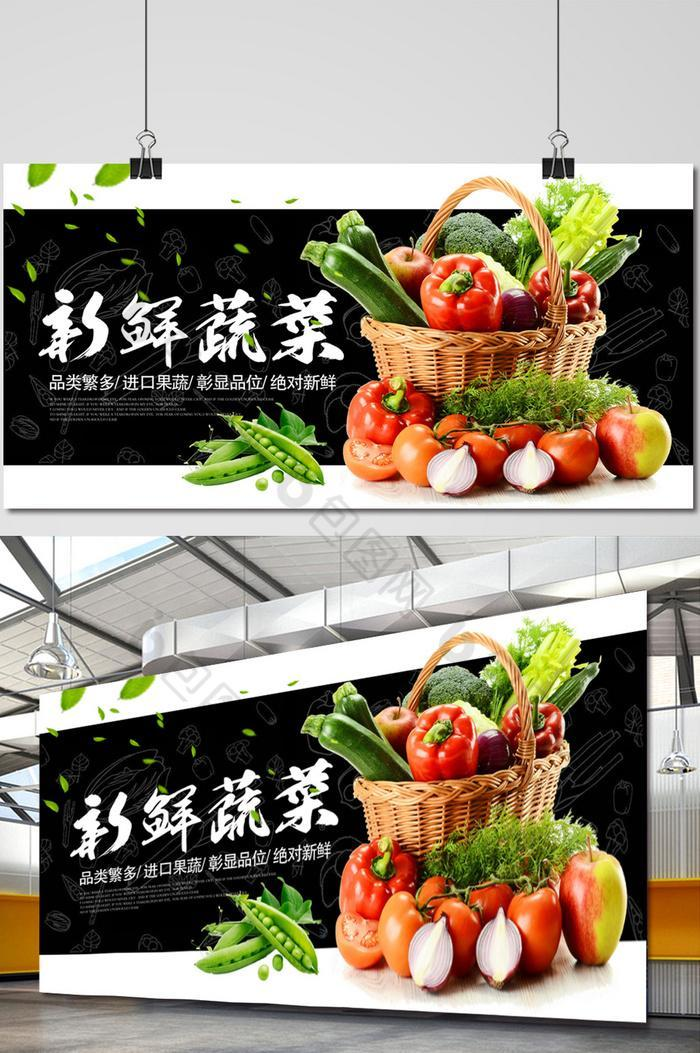apple: (556, 847, 625, 967), (593, 404, 669, 479), (383, 246, 432, 301)
